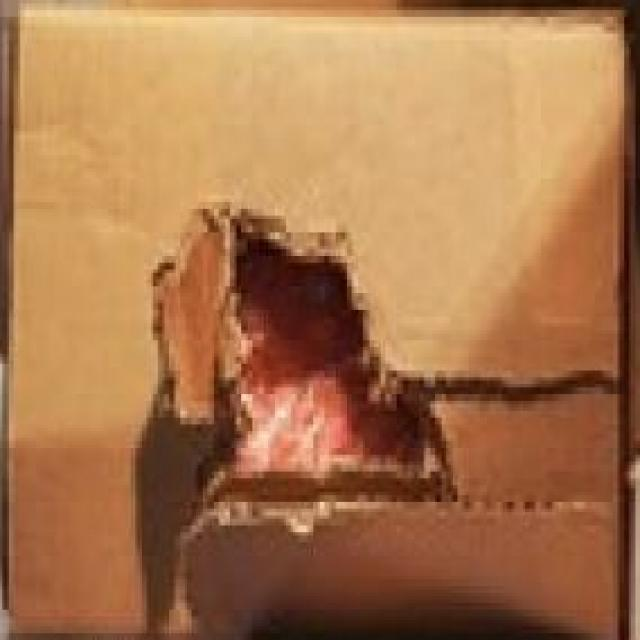hole: (161, 195, 467, 517)
